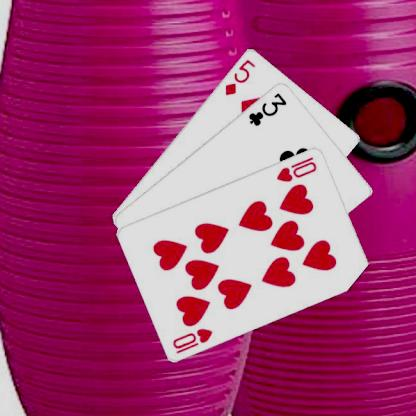10H: (170, 324, 214, 354), (274, 154, 318, 183)
3C: (245, 89, 289, 127)
5D: (222, 56, 257, 96)
